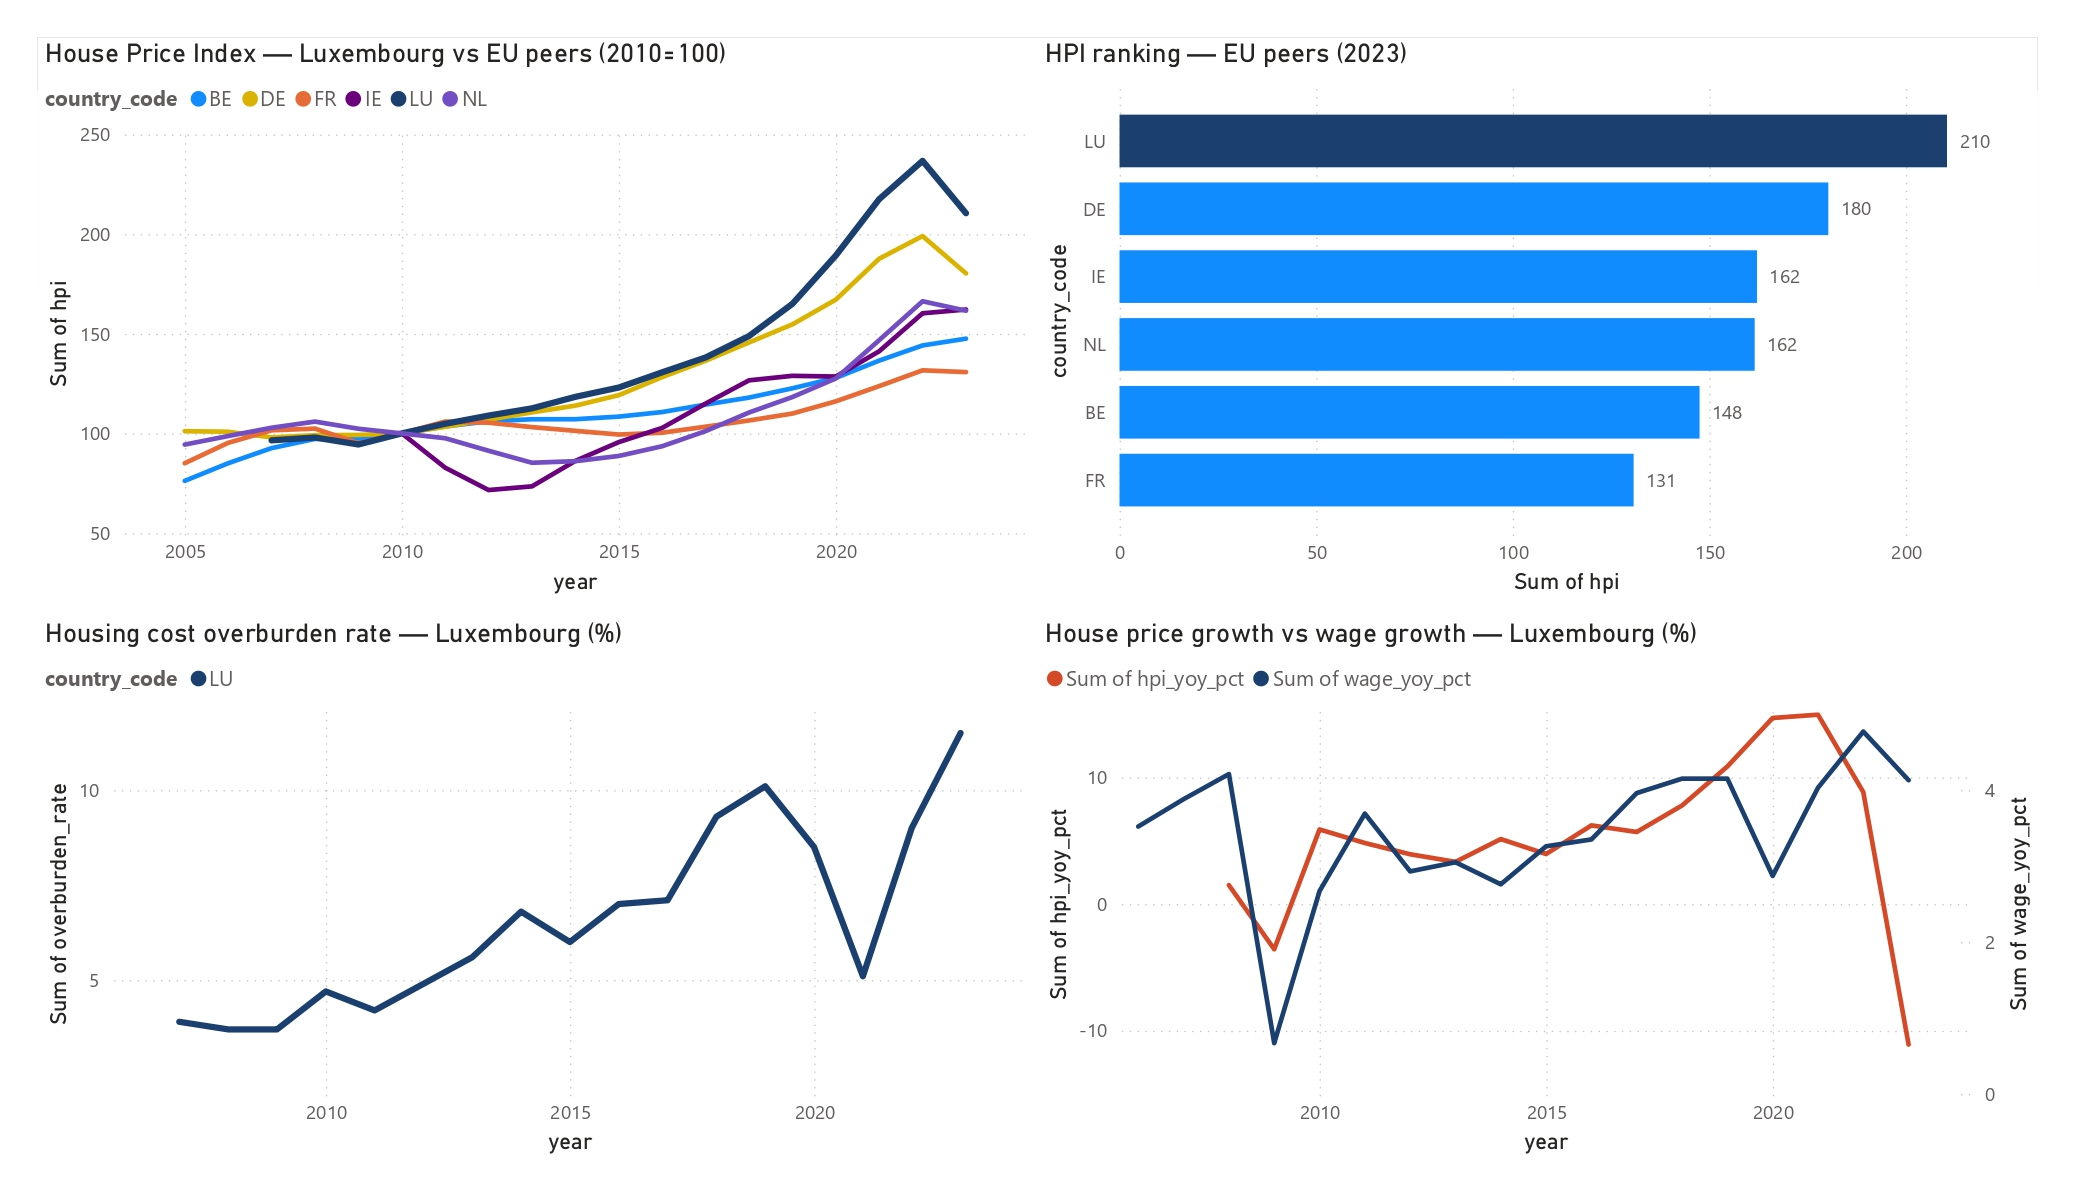

The page's visual inventory and layout, read from the dashboard file:
{"tool":"powerbi","page":{"name":"Housing & Affordability","canvas":[1280,720],"ordinal":1},"visuals":[{"type":"lineChart","title":"House Price Index — Luxembourg vs EU peers (2010=100)","fields":{"Y":["Sum(housing.hpi)"],"Series":["housing.country_code"],"Category":["YearTable.year"]},"box":[0,0,640,361],"z":0},{"type":"clusteredBarChart","title":"HPI ranking — EU peers (2023)","fields":{"Category":["housing.country_code"],"Y":["Sum(housing.hpi)"]},"box":[640,0,640,361],"z":1000},{"type":"lineChart","title":"Housing cost overburden rate — Luxembourg (%)","fields":{"Category":["YearTable.year"],"Y":["Sum(housing.overburden_rate)"],"Series":["housing.country_code"]},"box":[0,371,640,349],"z":2000},{"type":"lineChart","title":"House price growth vs wage growth — Luxembourg (%)","fields":{"Category":["YearTable.year"],"Y":["Sum(housing.hpi_yoy_pct)"],"Y2":["Sum(wages.wage_yoy_pct)"]},"box":[640,371,640,349],"z":3000}]}

Visuals, with their boxes on the page's 1280x720 design canvas (x1, y1, x2, y2). These are canvas units, not pixel positions in the 2075x1200 screenshot, which may show the page scaled, cropped or inside an application window:
"House Price Index — Luxembourg vs EU peers (2010=100)" lineChart: <region>0, 0, 640, 361</region>
"HPI ranking — EU peers (2023)" clusteredBarChart: <region>640, 0, 1280, 361</region>
"Housing cost overburden rate — Luxembourg (%)" lineChart: <region>0, 371, 640, 720</region>
"House price growth vs wage growth — Luxembourg (%)" lineChart: <region>640, 371, 1280, 720</region>
